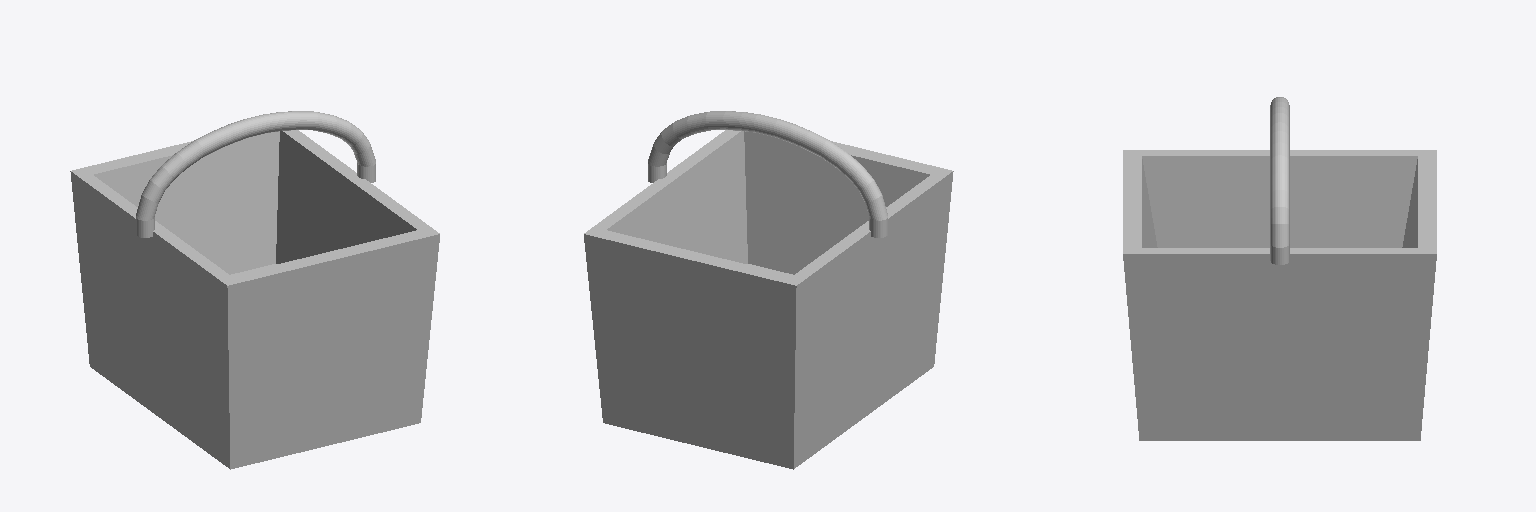
File: basket2.obj
3 views of the same model, side by side, from view 1: azimuth 30°, elevation 25°; view 2: azimuth 150°, elevation 25°; view 3: azimuth 270°, elevation 25° (orthographic).
Visible parts, largest first — view 1: Cube_Cube.003, Cylinder, Cylinder.001; view 2: Cube_Cube.003, Cylinder, Cylinder.001; view 3: Cube_Cube.003, Cylinder.001.
Boxes of the visible parts, box(x1,y1,x2,y2) form: Cube_Cube.003: box(70, 130, 439, 469); Cylinder: box(136, 114, 270, 237); Cylinder.001: box(266, 111, 375, 182); Cube_Cube.003: box(584, 130, 953, 469); Cylinder: box(753, 114, 887, 237); Cylinder.001: box(648, 111, 757, 182); Cube_Cube.003: box(1123, 150, 1436, 440); Cylinder.001: box(1270, 122, 1289, 264).
Bounding box in the file's own units: 1.18 × 1.31 × 1.34.